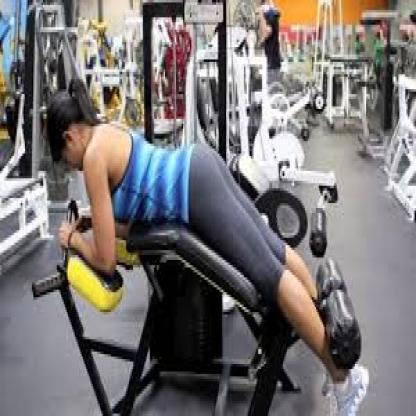reg curl machine: (21, 74, 372, 416)
